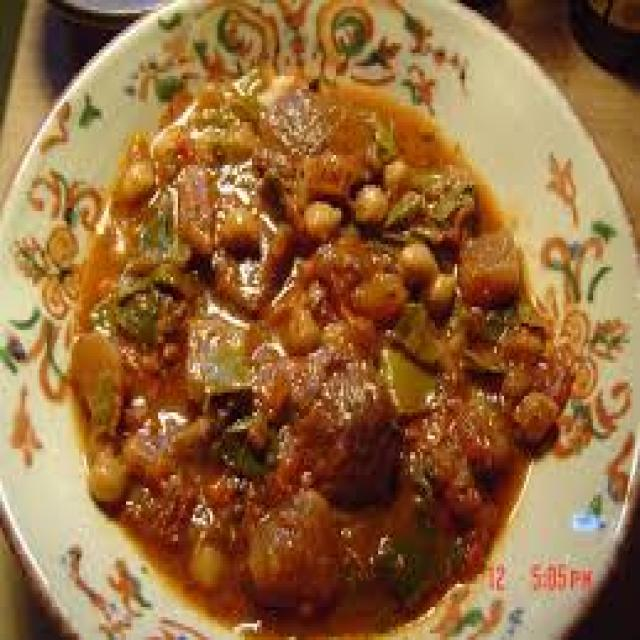Liftiyya: (0, 3, 635, 633)
